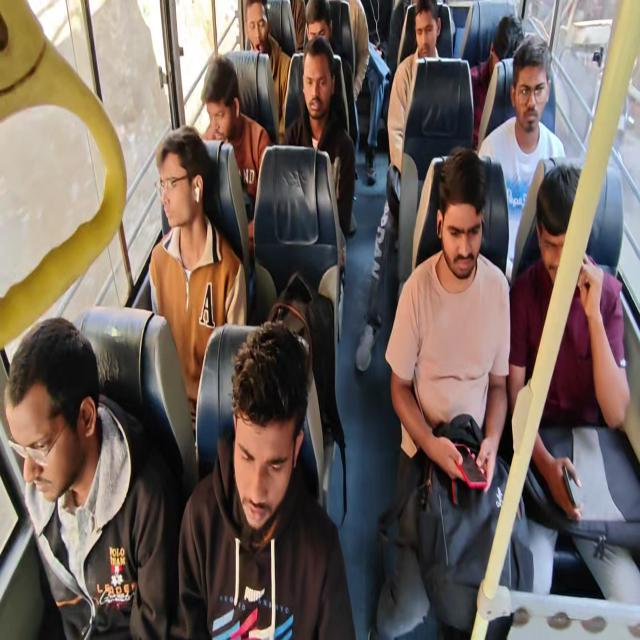person: (384, 147, 516, 637), (176, 320, 356, 638), (4, 316, 179, 638), (508, 161, 632, 597), (354, 0, 444, 372), (148, 124, 247, 439), (477, 35, 566, 282), (282, 35, 356, 281), (200, 55, 271, 249), (386, 1, 443, 217), (470, 13, 524, 146), (304, 0, 369, 102), (243, 0, 291, 132), (302, 0, 333, 52)
